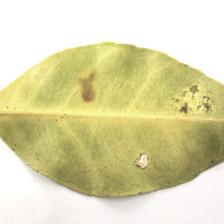canker: (68, 66, 220, 176)
